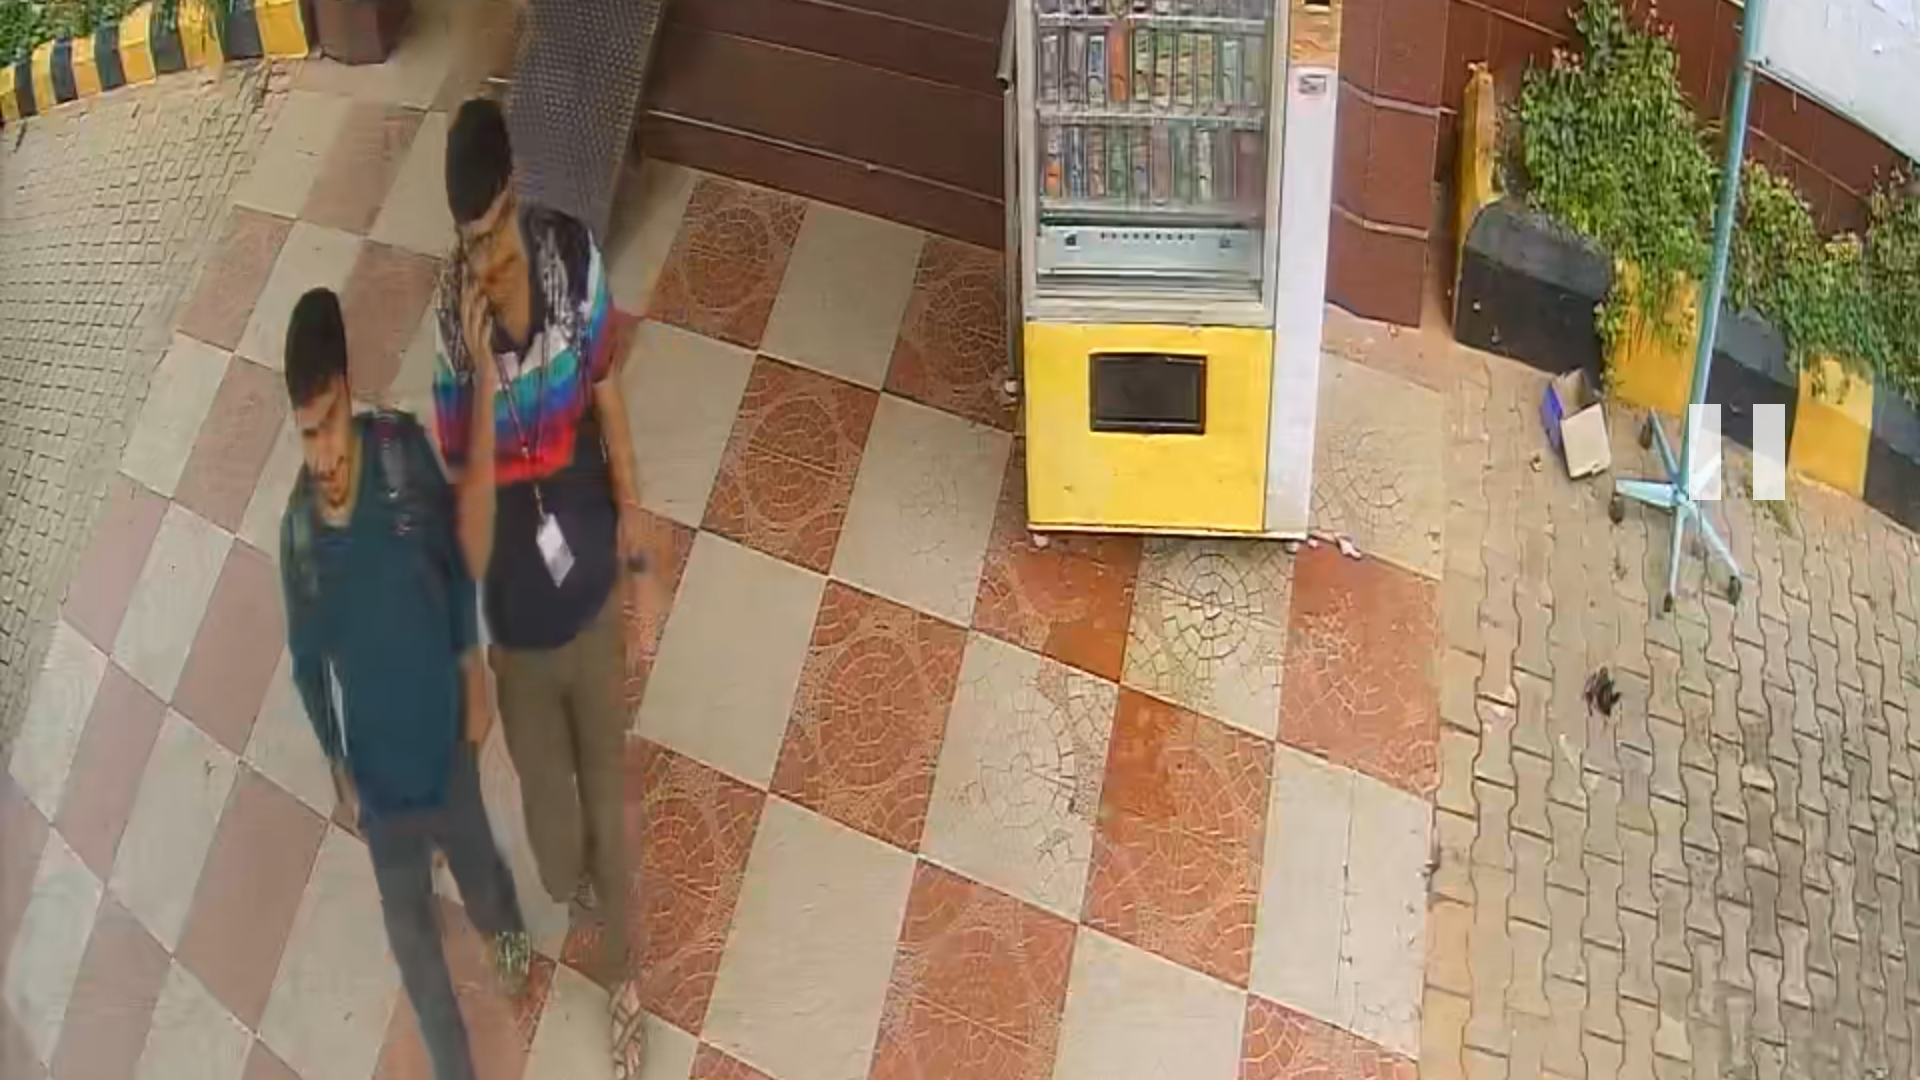intruder: (299, 281, 512, 1055)
not intruder: (426, 83, 690, 1069)
